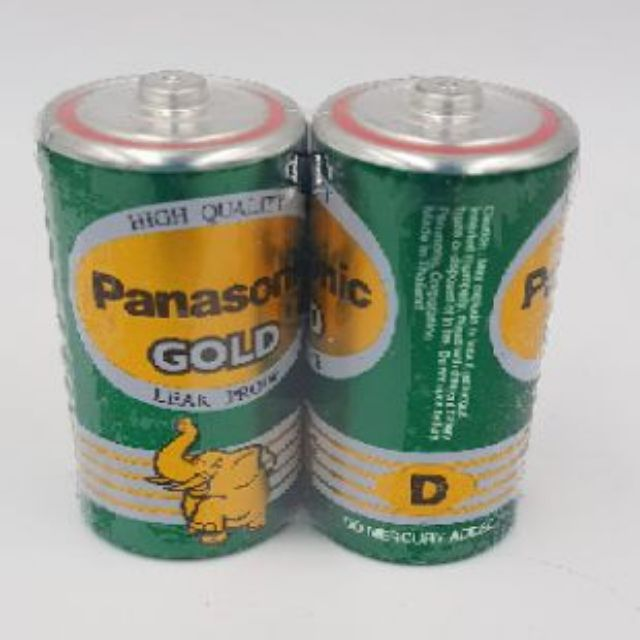Battery: (305, 67, 584, 571), (30, 67, 303, 571)
